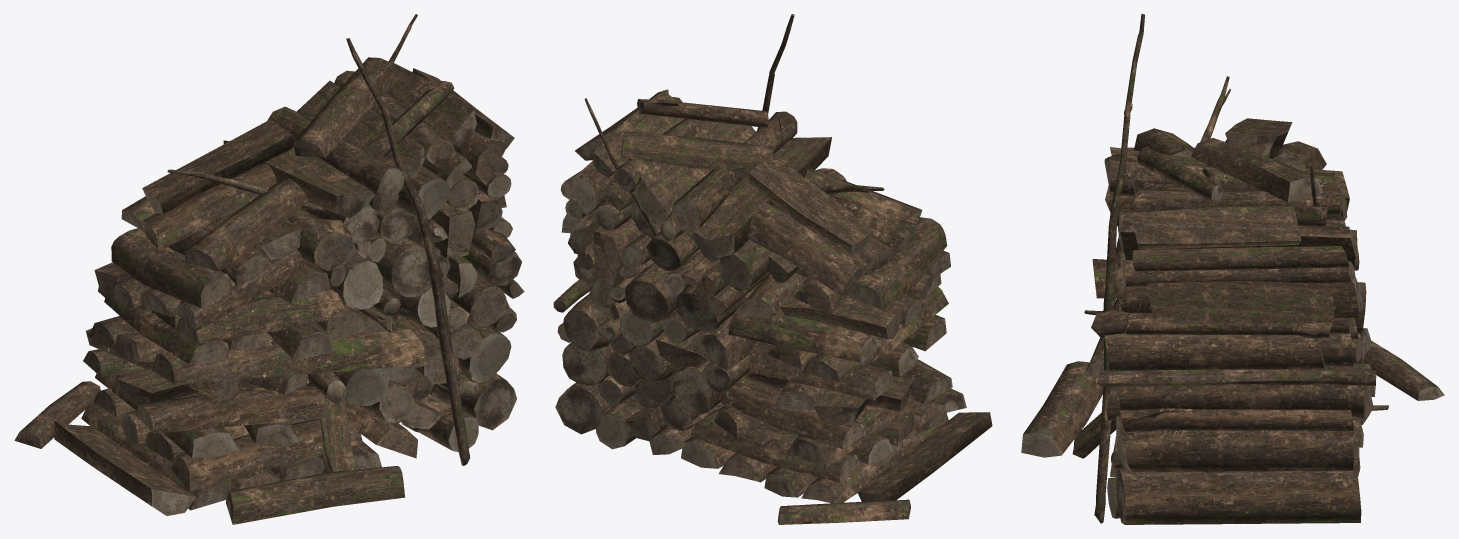
Rendered from LogPile02.fbx.
3 renders of one model, left to right at view 1: azimuth 30°, elevation 25°; view 2: azimuth 150°, elevation 25°; view 3: azimuth 270°, elevation 25°, orthographic. The views are drawn at different scales.
Parts seen in each view (by area): view 1: SM_BRL_LogPile02.mo; view 2: SM_BRL_LogPile02.mo; view 3: SM_BRL_LogPile02.mo.
Boxes of the visible parts, x1,y1,x2,y2 form: SM_BRL_LogPile02.mo: (14, 14, 524, 524); SM_BRL_LogPile02.mo: (553, 14, 992, 524); SM_BRL_LogPile02.mo: (1021, 14, 1444, 524).
Bounding box in the file's own units: 204 × 216 × 180.
